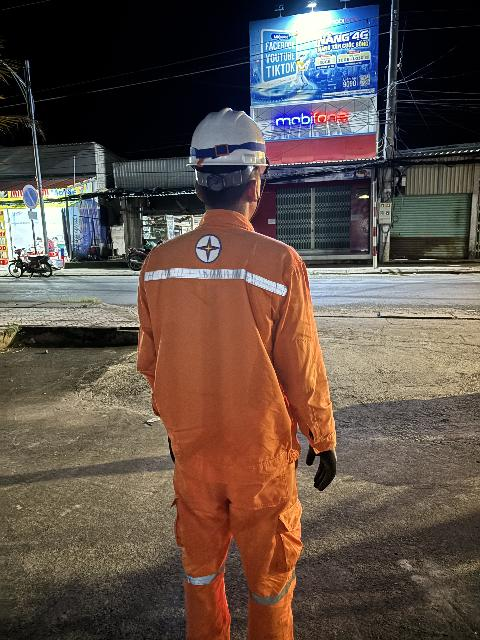gloves: (296, 434, 355, 513)
helmet: (182, 104, 289, 190)
